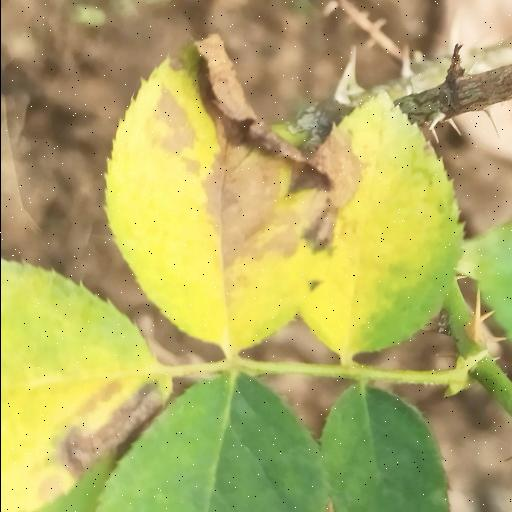thrip: (105, 35, 332, 357), (0, 260, 170, 512), (300, 96, 462, 360)
